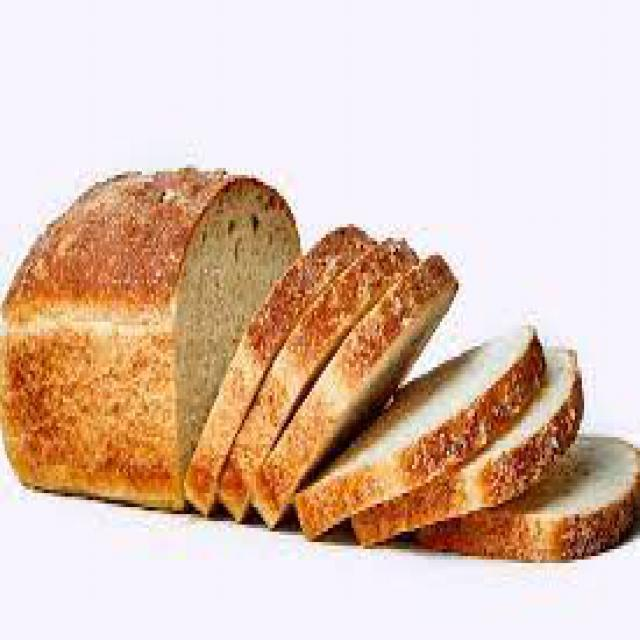Bread: (6, 169, 640, 561)
